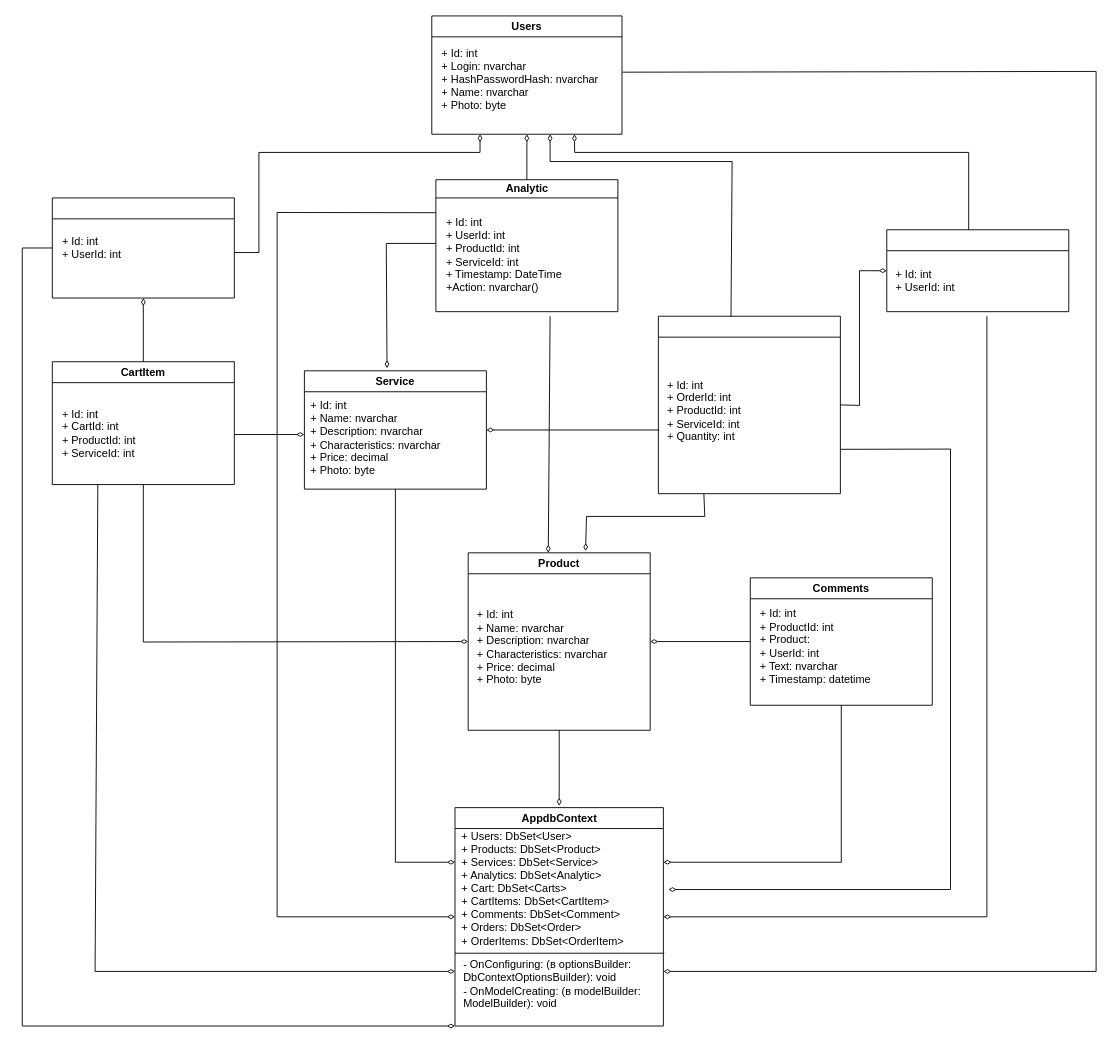
The diagram is 1119 pixels wide and 1049 high, and some of its shapes have lost their labels. Each missing label, with the box of its shape:
Cart: (51, 197, 234, 298)
Order: (886, 229, 1069, 312)
OrderItem: (657, 315, 840, 494)
